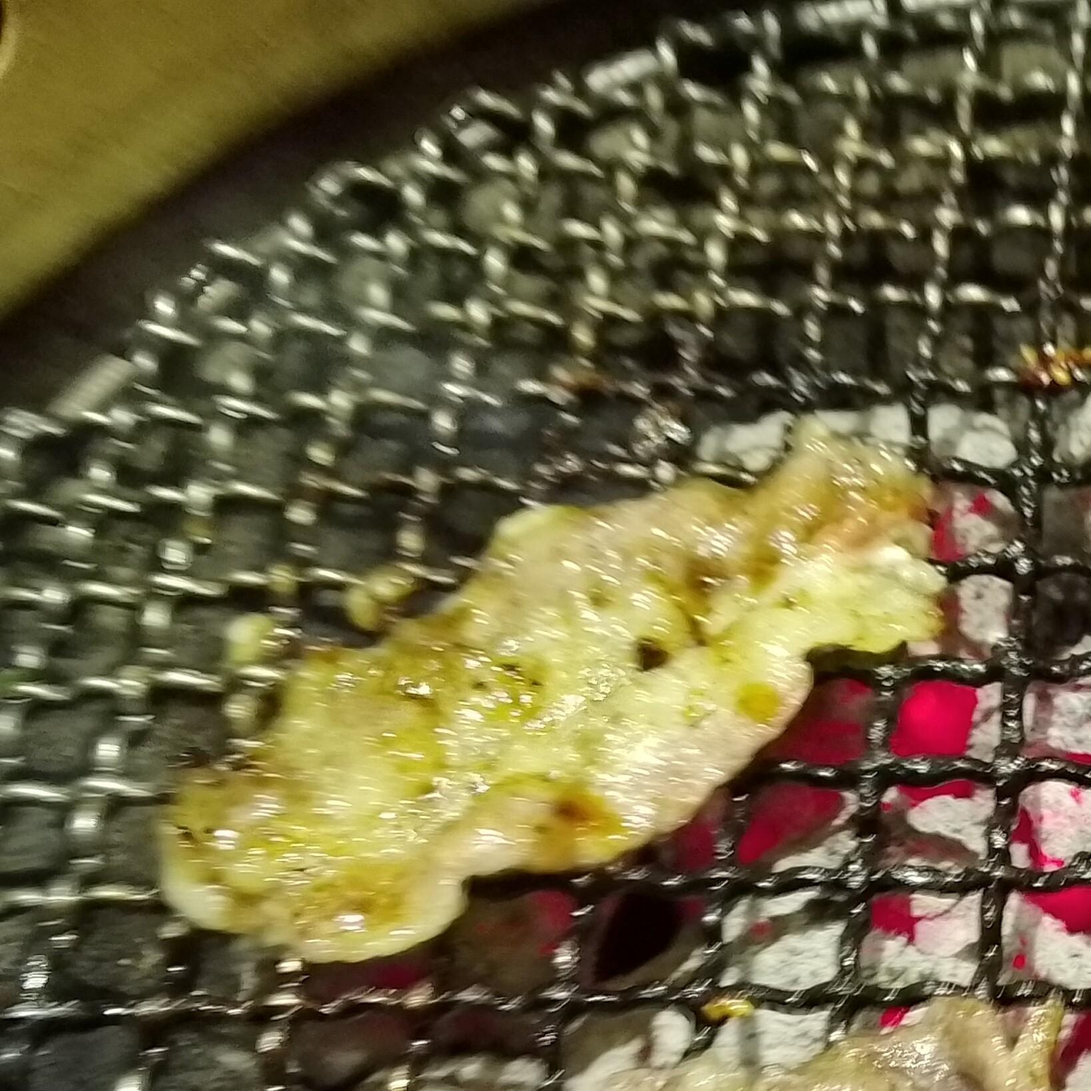Well-Cooked: (155, 420, 954, 969)
